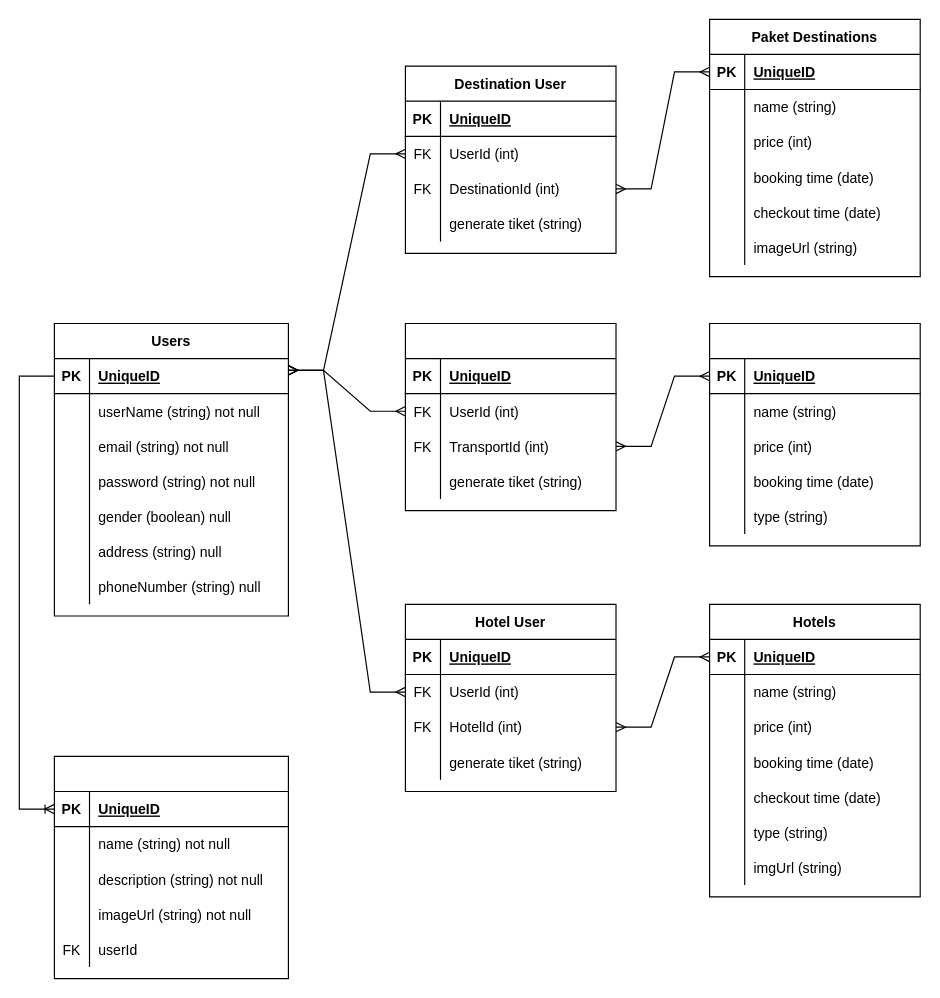
Image size: 940x998. Some labels were removed from this diagram. The shapes that lost their labels are listed below. From the top down, each one's box as (x1, y1, x2, y2) in pixels, then its label:
(404, 322, 616, 511): Transportation User
(708, 322, 920, 546): Ticket Transportations
(53, 755, 288, 979): Posts
